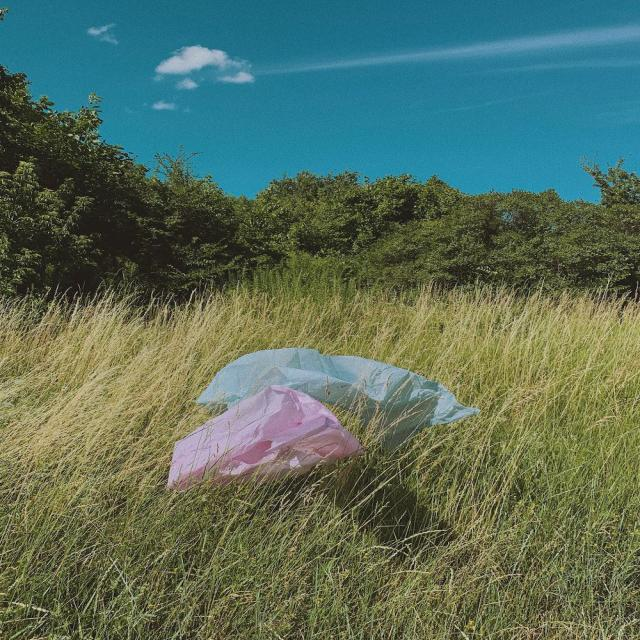plastic: (157, 329, 485, 492)
